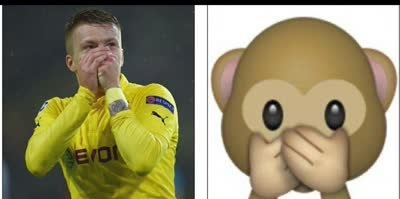face: (72, 23, 120, 85)
